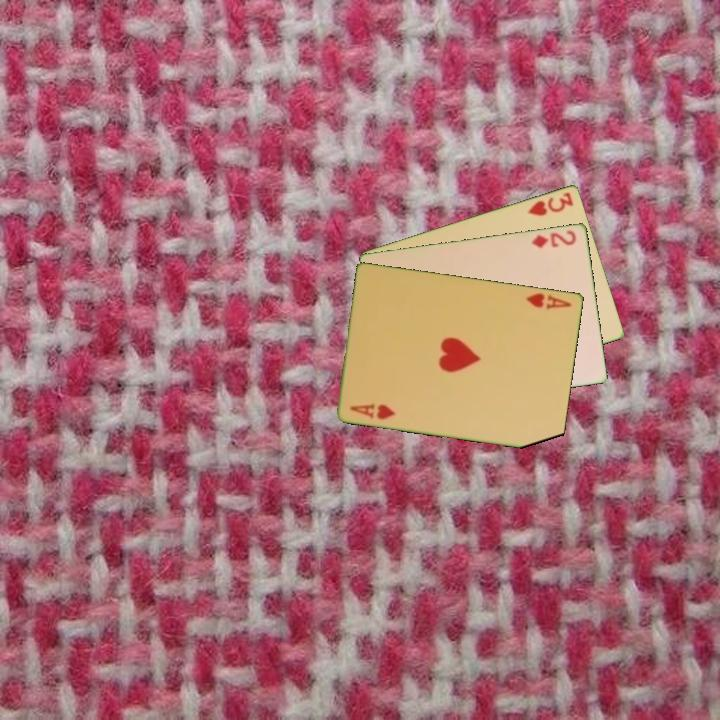2d: (528, 227, 579, 251)
3h: (524, 188, 576, 218)
Ah: (523, 289, 575, 312), (347, 400, 398, 422)
